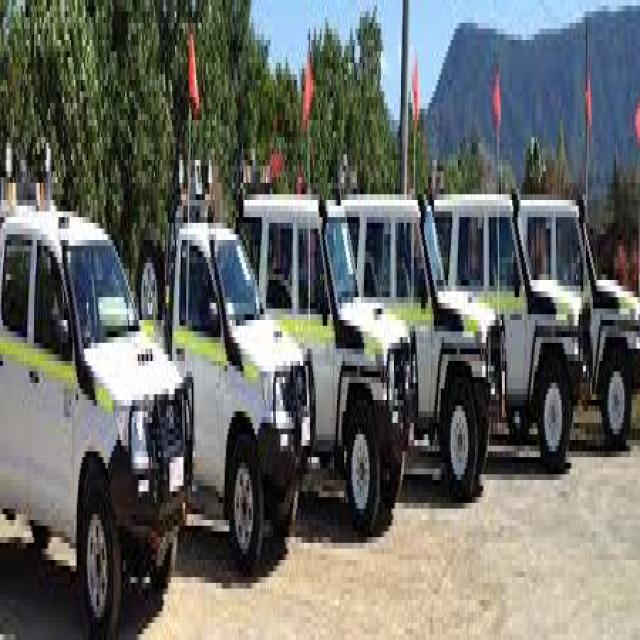light_vehicle: (7, 63, 201, 623), (164, 126, 330, 634), (294, 148, 412, 588), (408, 172, 506, 554), (494, 166, 593, 537)
